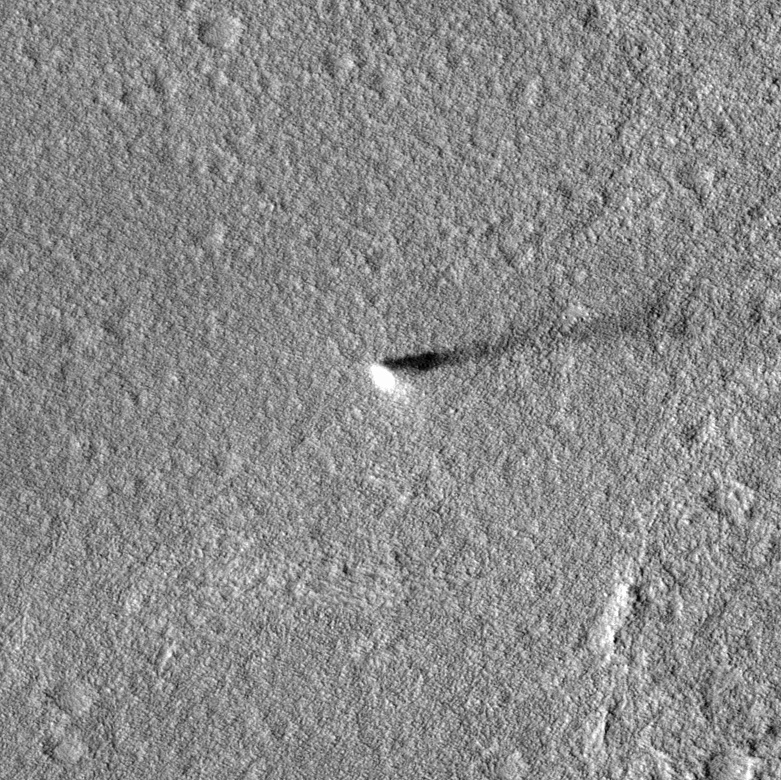dust_devil: (364, 300, 661, 396)
